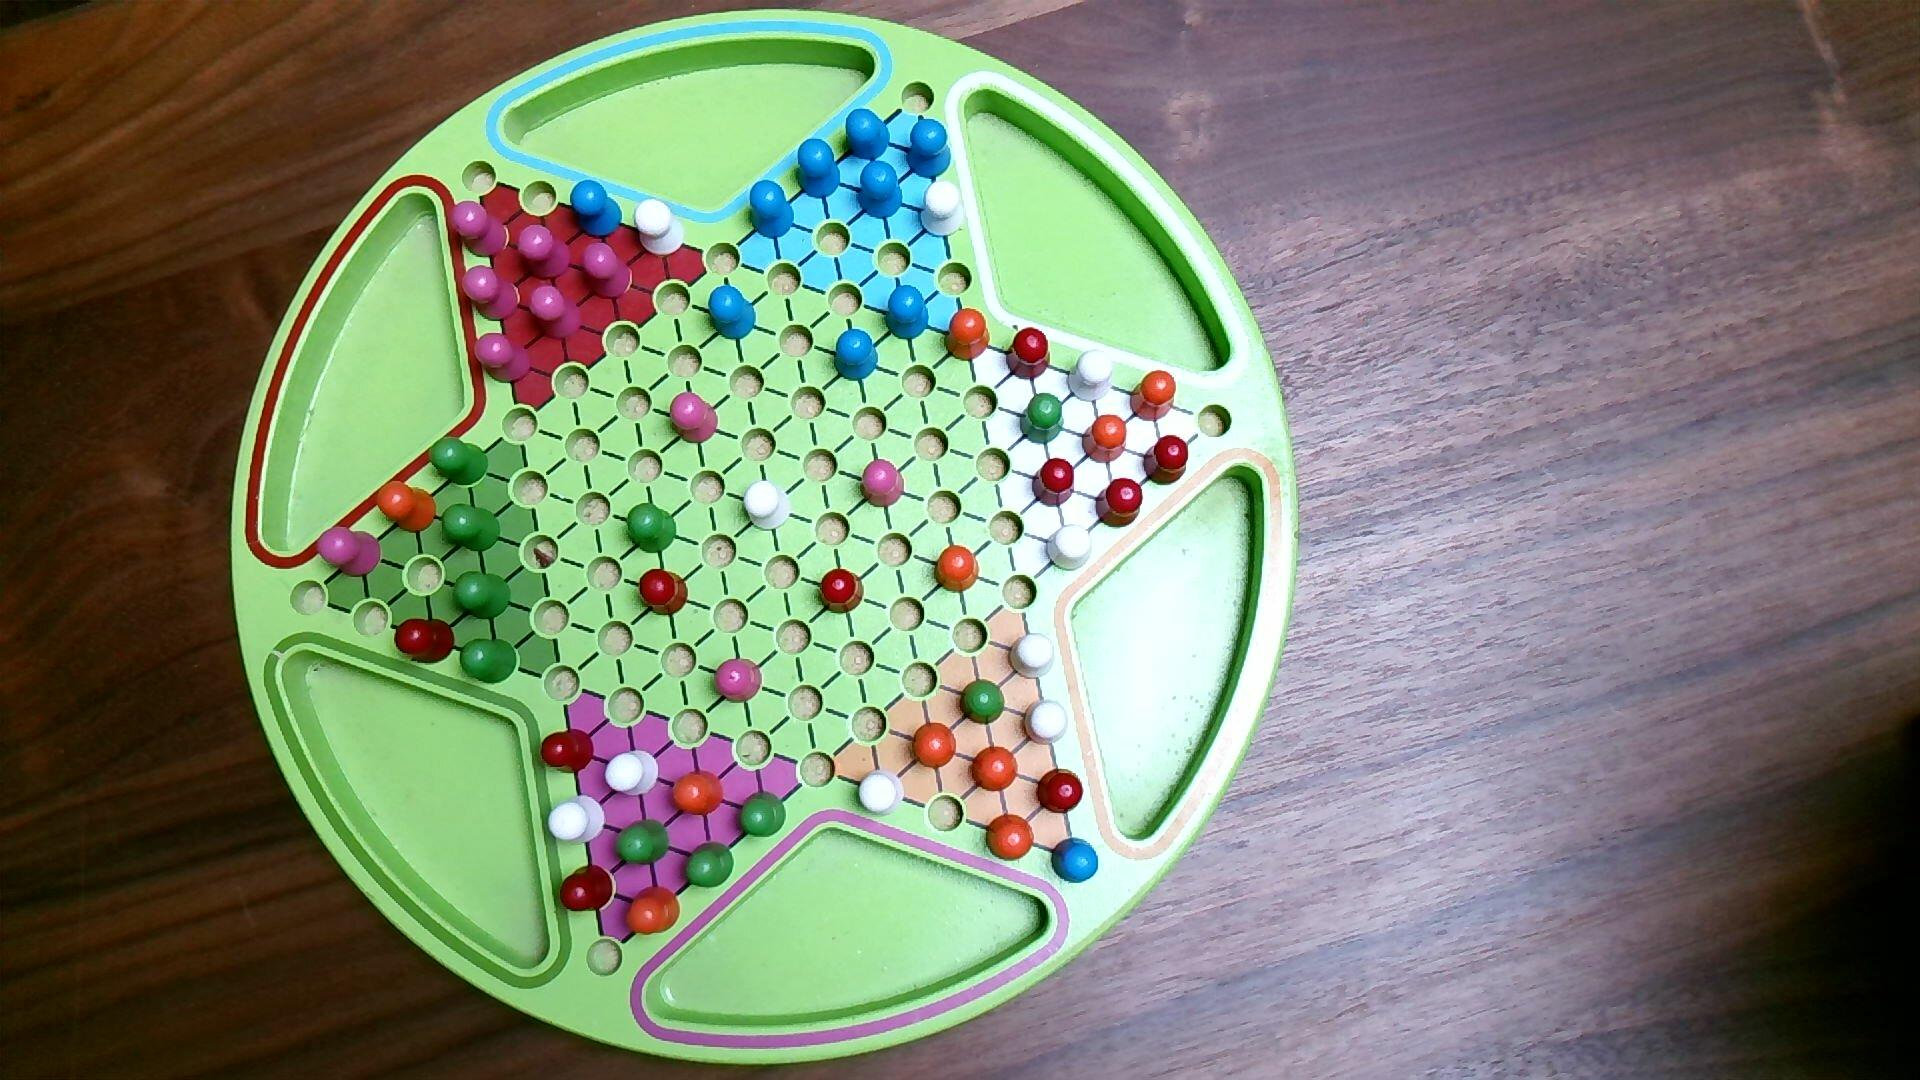B: (568, 179, 625, 240), (705, 284, 760, 343), (748, 179, 796, 243), (905, 117, 953, 181), (856, 160, 905, 222), (795, 138, 843, 202), (884, 284, 931, 343), (844, 105, 891, 164), (833, 328, 881, 385), (1050, 837, 1101, 886)
G: (451, 568, 513, 622), (427, 436, 491, 489), (440, 502, 502, 555), (612, 815, 673, 868), (458, 637, 520, 687), (625, 501, 679, 556), (1018, 392, 1067, 447), (680, 843, 737, 890), (736, 790, 789, 840), (957, 678, 1007, 728)
O: (375, 479, 438, 535), (622, 885, 683, 938), (669, 769, 727, 819), (942, 307, 992, 364), (982, 814, 1036, 865), (1129, 368, 1178, 425), (968, 744, 1021, 795), (1080, 411, 1129, 465), (909, 721, 959, 771), (934, 543, 981, 596)
R: (393, 616, 458, 666), (556, 862, 616, 914), (636, 567, 691, 620), (539, 727, 597, 775), (1142, 433, 1191, 489), (1005, 326, 1054, 382), (1095, 477, 1145, 531), (1030, 456, 1077, 512), (815, 566, 866, 616), (1035, 767, 1087, 818)
R2: (460, 262, 522, 324), (448, 200, 512, 261), (314, 525, 382, 580), (525, 284, 585, 342), (516, 222, 574, 282), (473, 332, 535, 386), (580, 241, 634, 302), (667, 390, 720, 447), (858, 456, 907, 512), (712, 657, 765, 705)
W: (632, 196, 687, 258), (546, 793, 608, 847), (918, 178, 967, 240), (741, 479, 794, 534), (603, 749, 661, 799), (1065, 347, 1116, 405), (856, 767, 907, 819), (1006, 632, 1058, 682), (1044, 524, 1095, 574), (1021, 698, 1069, 748)
